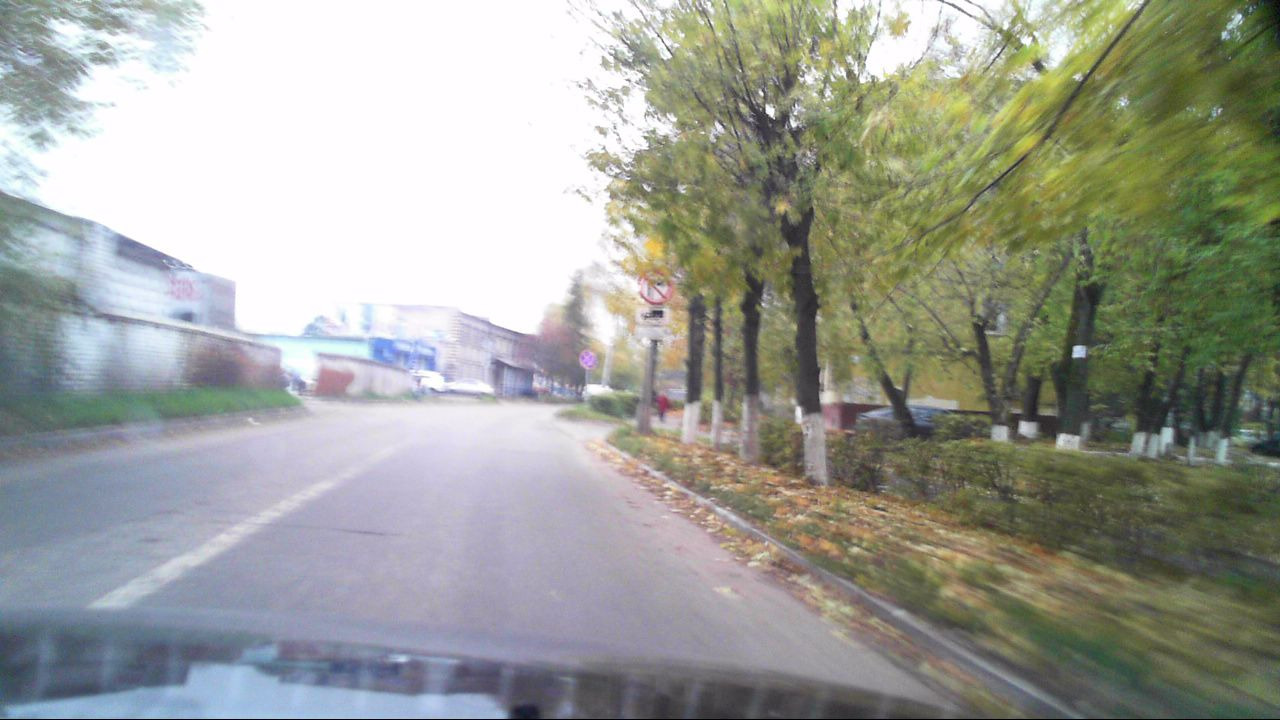No Parking: (579, 349, 595, 368)
